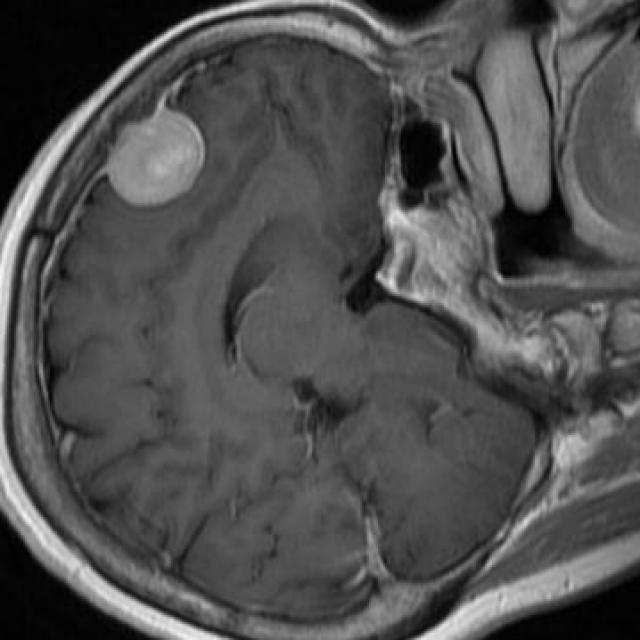meningioma: (102, 107, 205, 209)
